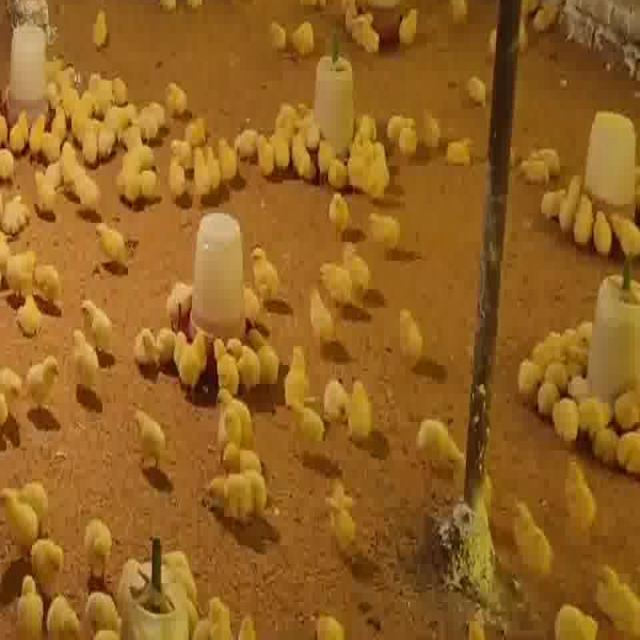poussin: (599, 546, 636, 638), (216, 376, 264, 446), (200, 464, 272, 510), (0, 475, 54, 533), (285, 322, 321, 402), (415, 406, 457, 474), (560, 465, 600, 535), (133, 395, 175, 460), (322, 393, 365, 455), (554, 576, 596, 638), (512, 502, 552, 567), (79, 285, 120, 346), (321, 356, 371, 404), (70, 335, 110, 395), (55, 594, 104, 640), (319, 247, 357, 306), (117, 152, 162, 201), (26, 344, 64, 402), (364, 199, 404, 252), (80, 508, 113, 572), (176, 304, 210, 366), (229, 584, 265, 640), (242, 303, 274, 365), (250, 236, 282, 296), (325, 480, 352, 550), (46, 566, 82, 618), (315, 587, 350, 639), (607, 202, 640, 257), (19, 560, 42, 638), (306, 290, 338, 345), (162, 543, 198, 591), (27, 530, 70, 570), (134, 298, 177, 338), (195, 587, 227, 640), (346, 240, 372, 305), (52, 60, 76, 130), (441, 126, 485, 164), (0, 248, 35, 292), (398, 305, 422, 367), (228, 310, 255, 365), (92, 228, 132, 265), (13, 292, 45, 338), (294, 102, 316, 167), (352, 8, 384, 51), (214, 317, 239, 371), (230, 129, 260, 174), (324, 188, 354, 233), (125, 105, 154, 150), (190, 130, 213, 185), (553, 393, 581, 437), (538, 183, 568, 224), (96, 108, 122, 154), (37, 158, 64, 202), (1, 194, 29, 236), (572, 191, 596, 239), (394, 0, 422, 40), (163, 73, 189, 115), (590, 420, 620, 456), (89, 564, 118, 601), (556, 186, 582, 227), (209, 140, 231, 188), (616, 423, 640, 467), (273, 123, 295, 170), (514, 353, 538, 396), (290, 13, 320, 47), (422, 102, 445, 146), (166, 128, 198, 159), (580, 391, 612, 422), (564, 316, 594, 349), (2, 361, 29, 397), (526, 144, 556, 176), (590, 199, 610, 247), (540, 326, 572, 356), (368, 150, 389, 195), (0, 147, 27, 182), (388, 105, 416, 138), (614, 390, 640, 424), (79, 164, 100, 206), (8, 104, 28, 148), (34, 267, 58, 303), (80, 120, 101, 161), (466, 70, 488, 109), (324, 150, 348, 185), (256, 131, 276, 173), (183, 109, 209, 141), (347, 137, 365, 183), (142, 96, 166, 130), (277, 97, 300, 130), (168, 153, 186, 195), (267, 15, 291, 46), (112, 66, 133, 100), (84, 76, 109, 104), (539, 373, 556, 412), (42, 122, 64, 152), (30, 111, 45, 154), (399, 122, 419, 153), (71, 99, 96, 123), (545, 355, 566, 382), (60, 136, 75, 173), (92, 13, 109, 42)
